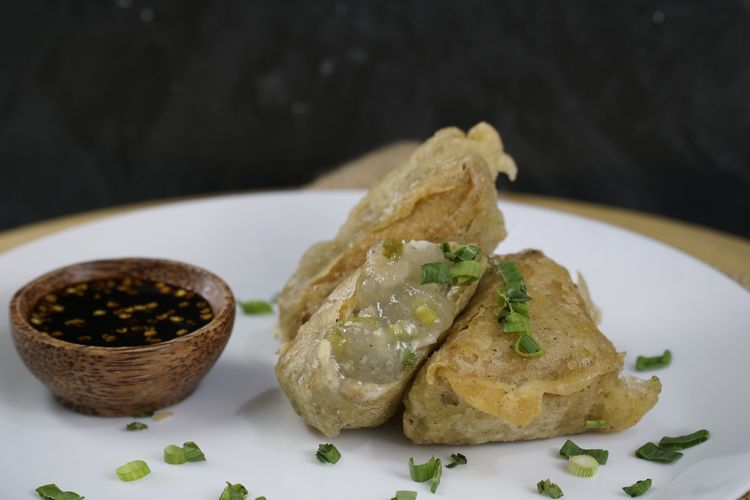Tahu: (436, 243, 627, 453), (284, 117, 495, 305)
